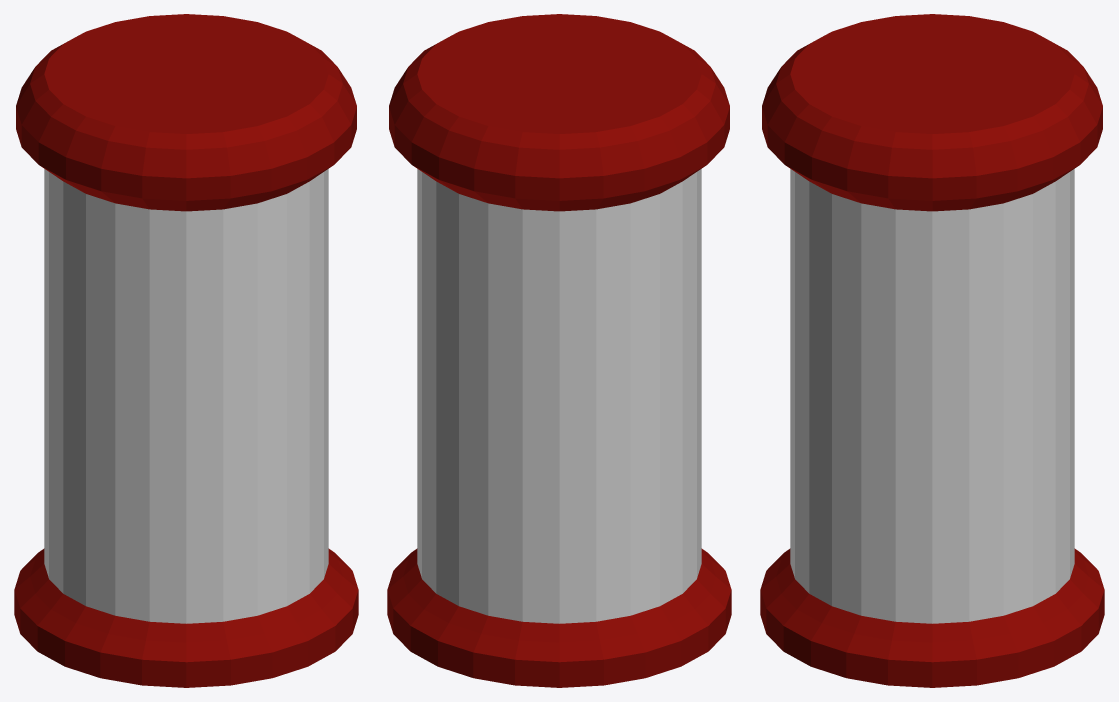
Rendered from Strange_Device1.fbx.
The picture shows the model from 3 angles, left to right: view 1: azimuth 30°, elevation 25°; view 2: azimuth 150°, elevation 25°; view 3: azimuth 270°, elevation 25°; orthographic projection.
Visible parts, largest first — view 1: Glass, Frame; view 2: Glass, Frame; view 3: Glass, Frame.
Boxes of the visible parts, x1,y1,x2,y2 form: Glass: [44, 169, 328, 623]; Frame: [14, 14, 358, 687]; Glass: [417, 169, 701, 623]; Frame: [387, 14, 731, 687]; Glass: [790, 169, 1074, 623]; Frame: [760, 14, 1104, 687].
Bounding box in the file's own units: 151 × 262 × 151.
